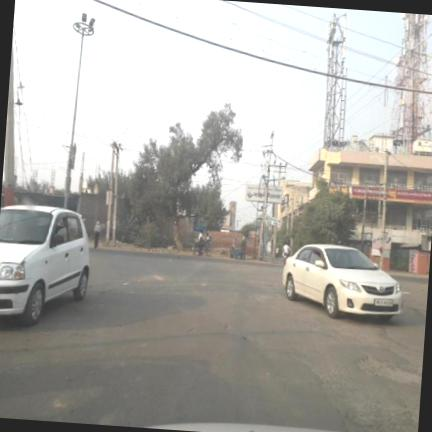Road: (0, 250, 427, 431)
